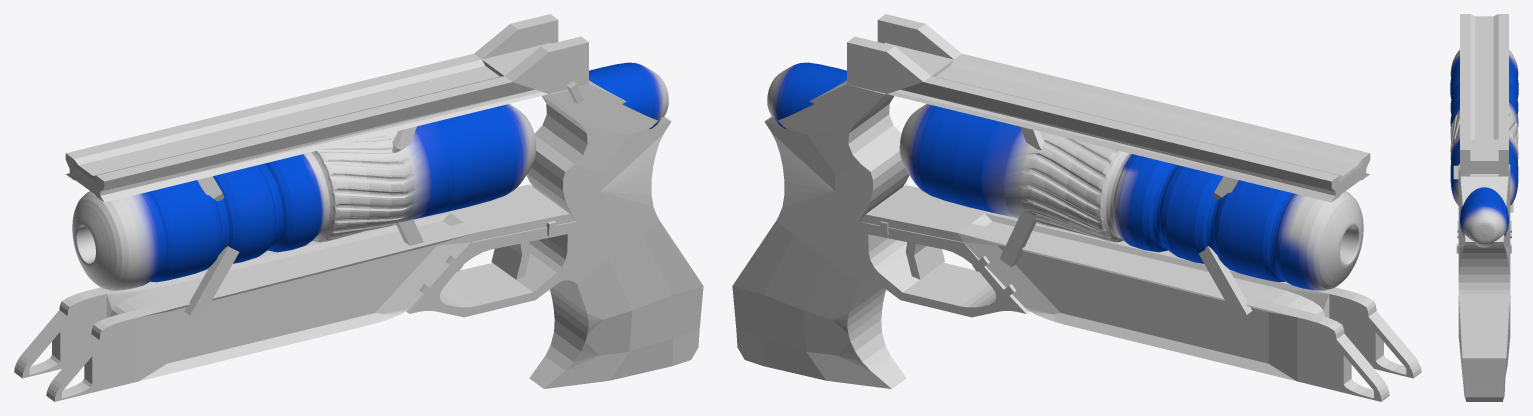
File: Revolver_Joined.fbx
3 renders of one model, left to right at view 1: azimuth 30°, elevation 25°; view 2: azimuth 150°, elevation 25°; view 3: azimuth 270°, elevation 25°, orthographic. The views are drawn at different scales.
Visible parts, largest first — view 1: Cube.001; view 2: Cube.001; view 3: Cube.001.
Boxes of the visible parts, x1=… form: Cube.001: x1=14, y1=14, x2=703, y2=401; Cube.001: x1=732, y1=14, x2=1421, y2=401; Cube.001: x1=1450, y1=14, x2=1518, y2=401.
Size of the model in its own units: 2129 by 1085 by 307.
